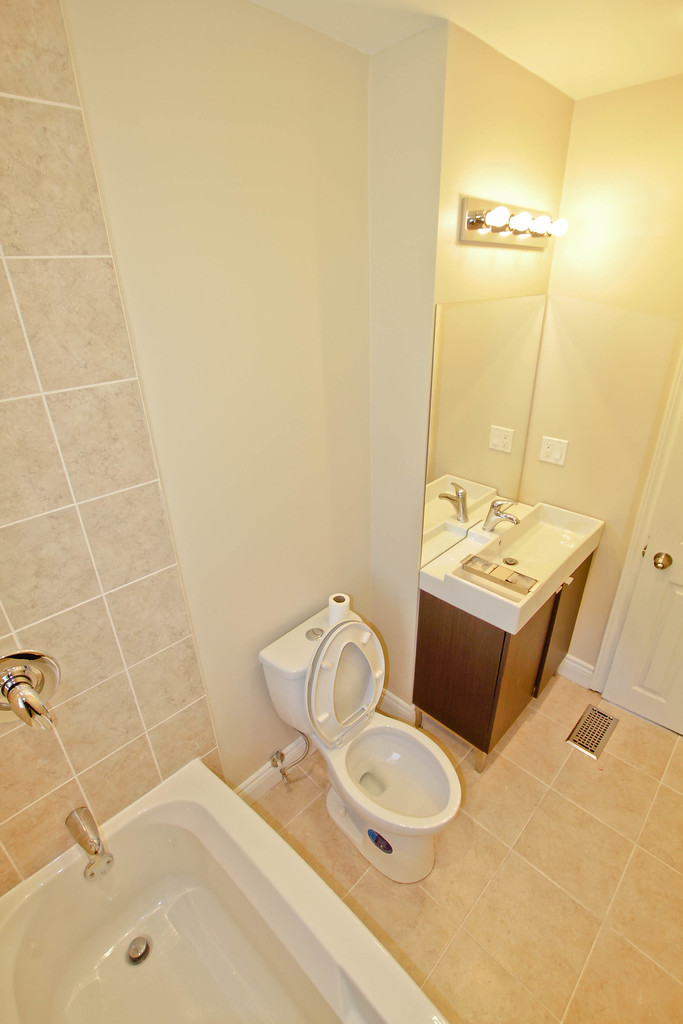tap: (65, 805, 109, 880), (479, 493, 524, 533)
